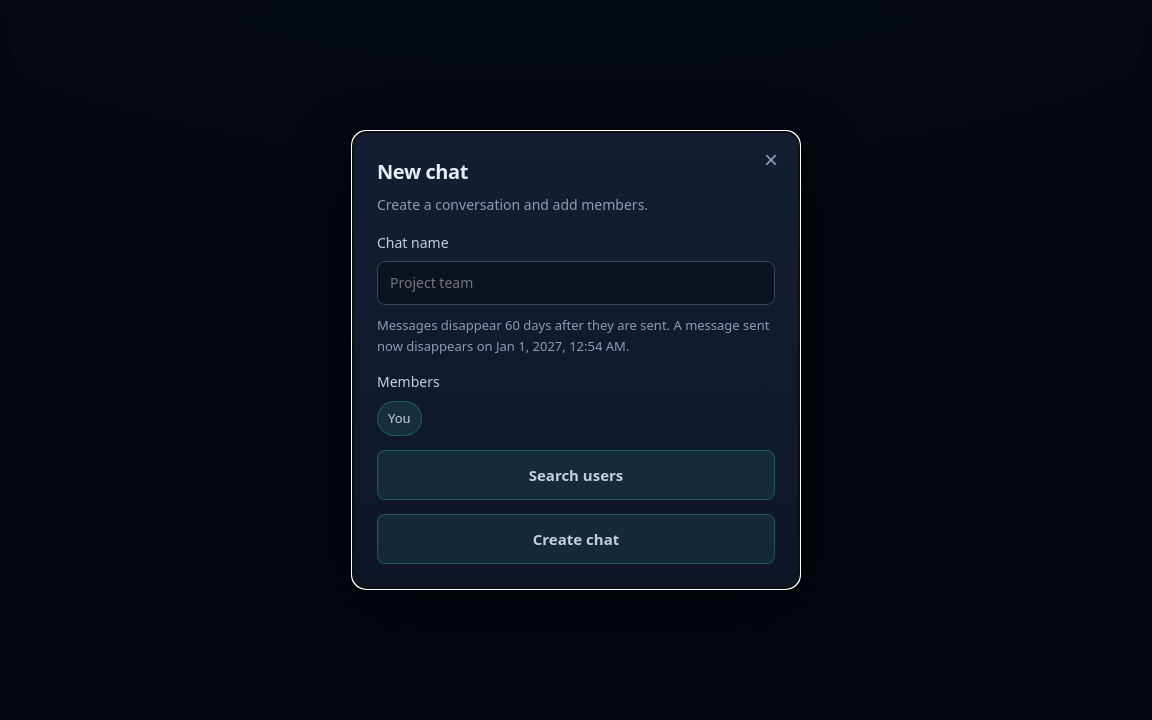
Test: NewChatDialog › requires chat name before create
Click the button "Create chat". click: (576, 539)
box: [377, 514, 775, 564]
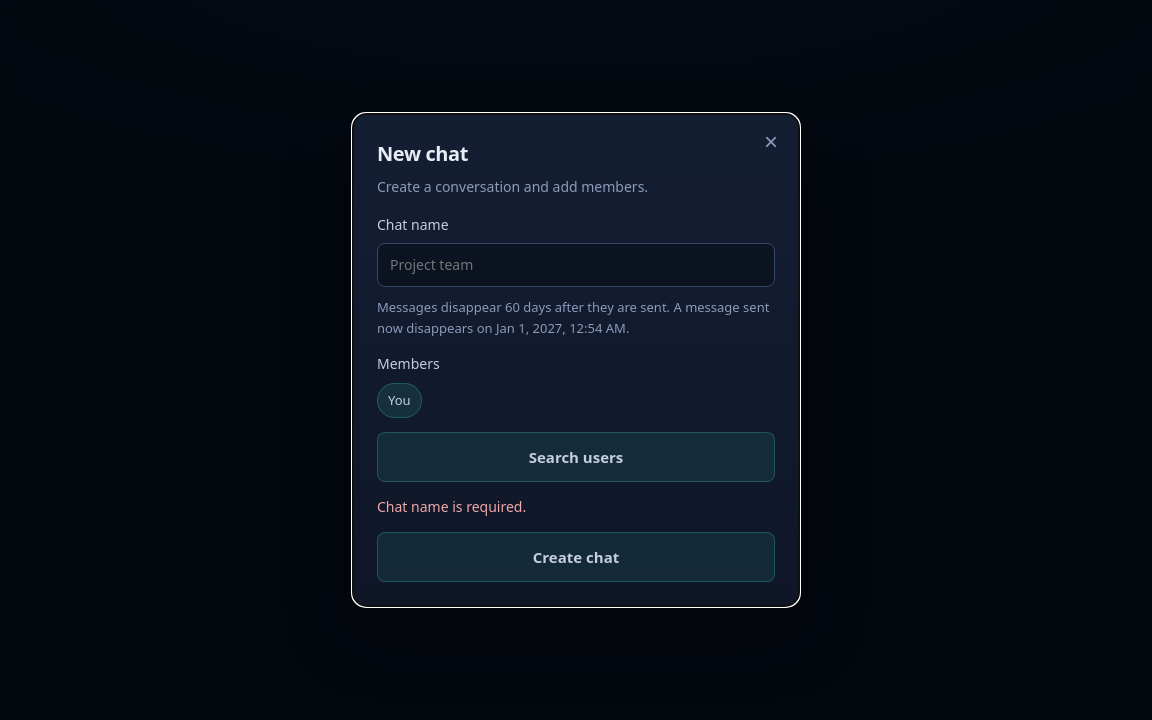
Check: the message reads "Chat name is required.", box [377, 497, 526, 516]
